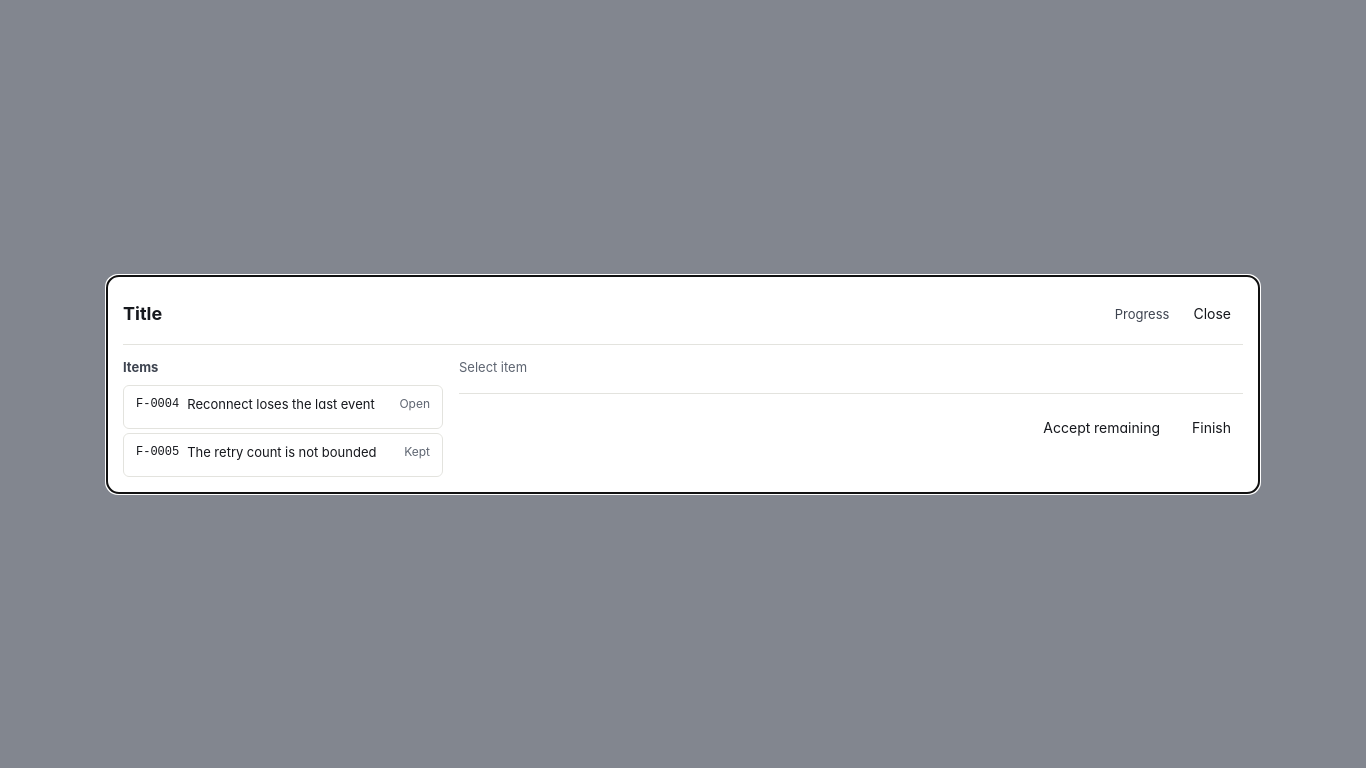
Test: FindingsReviewModal component › reads back an edit old against new
Click the button with test id "review-item-F-0004" at (283, 406), box [123,384,443,428]
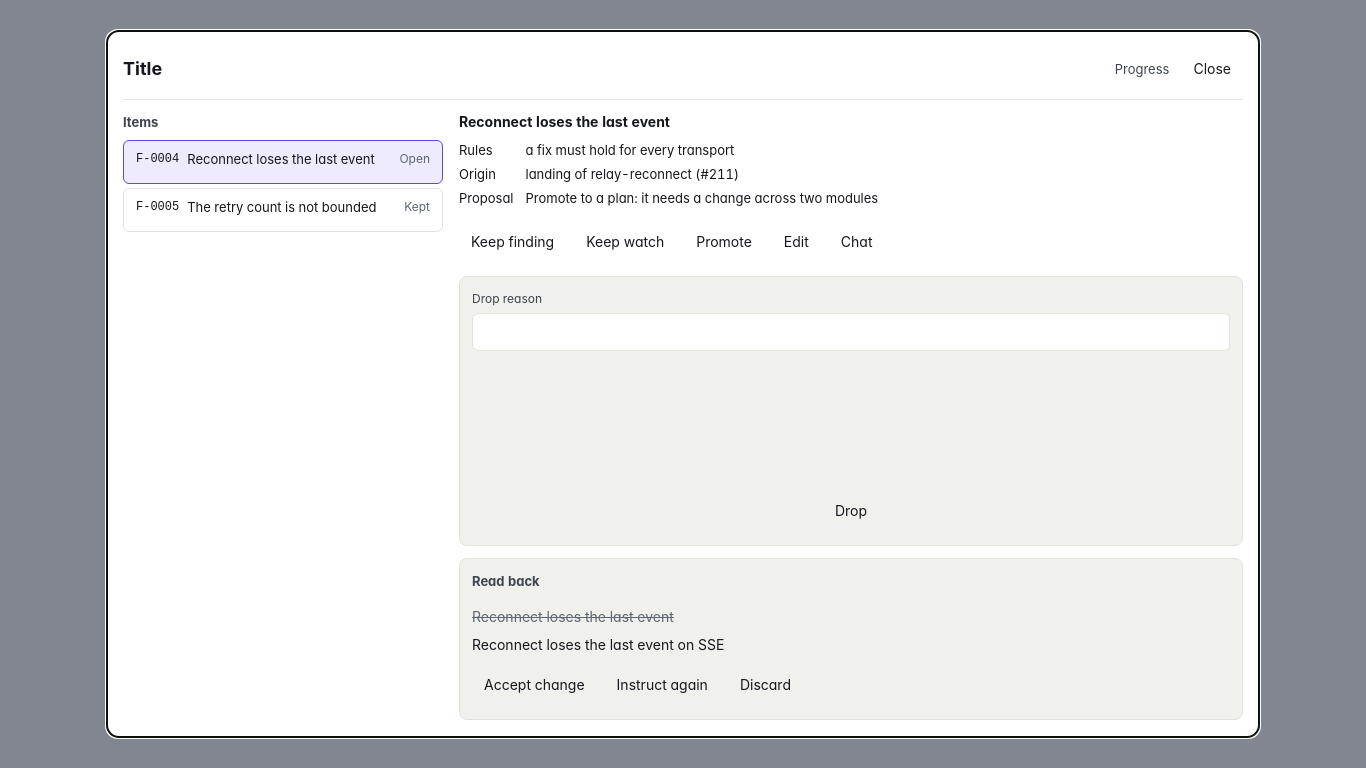
Expected: the element with test id "review-read-back" shows "Reconnect loses the last event on SSE", [472,636,724,653]
Expected: the button with test id "review-read-back-accept" is shown, [472,663,597,707]
Expected: the button with test id "review-read-back-discard" is shown, [728,663,803,707]
